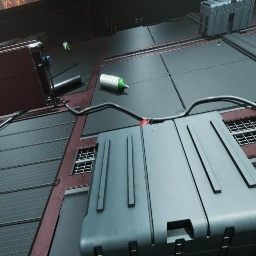0: (100, 74, 130, 93), (63, 42, 71, 52)
FireExtinguisher ]: (139, 118, 153, 127)
